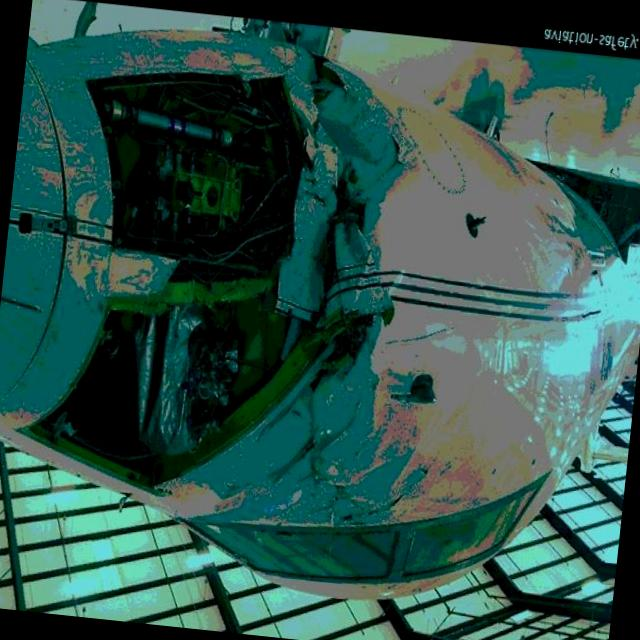crack: (377, 134, 410, 192)
